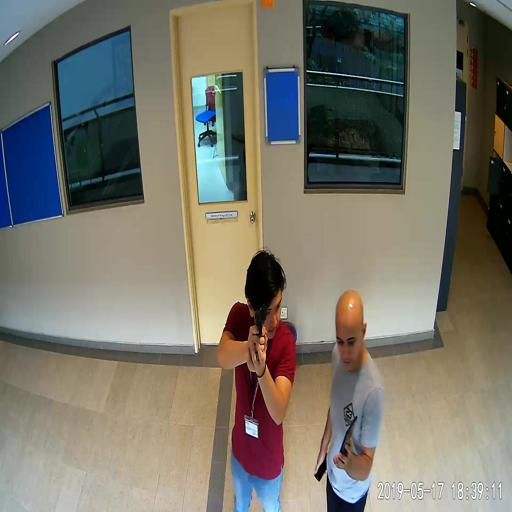pistol: (254, 302, 266, 349)
